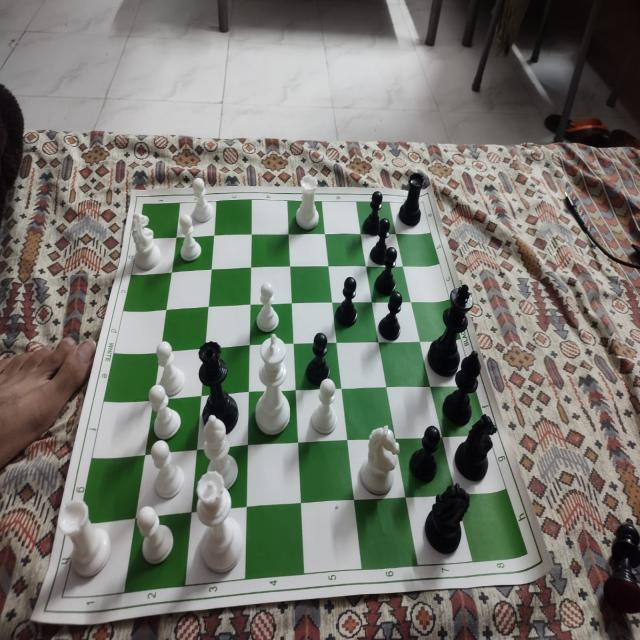board: (34, 181, 552, 619)
square: (62, 518, 136, 597), (125, 513, 192, 593), (456, 489, 528, 562), (185, 507, 247, 586), (406, 495, 473, 565), (78, 455, 145, 524), (245, 503, 305, 579), (354, 498, 418, 569), (301, 500, 362, 574), (136, 450, 197, 517), (443, 435, 506, 495), (192, 445, 248, 512), (395, 437, 456, 498), (92, 400, 154, 459), (347, 439, 406, 499), (298, 440, 354, 503), (247, 443, 301, 507), (146, 396, 202, 455), (197, 391, 249, 450), (431, 386, 490, 437), (386, 387, 442, 439), (342, 387, 396, 440), (104, 352, 161, 401), (248, 390, 298, 445), (296, 389, 347, 442), (154, 348, 205, 400), (420, 340, 475, 386), (201, 345, 250, 396), (337, 342, 387, 389), (379, 342, 430, 388), (114, 310, 167, 354), (249, 343, 296, 392), (294, 343, 341, 390), (161, 307, 209, 352), (411, 300, 461, 342), (205, 305, 251, 349), (372, 302, 420, 343), (332, 302, 379, 343), (123, 272, 172, 311), (167, 269, 212, 310), (292, 303, 337, 344), (250, 304, 294, 345), (403, 264, 449, 303), (131, 237, 177, 275), (209, 268, 251, 307), (251, 266, 292, 305), (367, 267, 411, 303), (172, 236, 214, 273), (290, 266, 332, 303), (137, 203, 180, 239), (329, 266, 372, 302), (396, 233, 440, 267), (361, 234, 404, 267), (177, 201, 216, 237), (212, 235, 252, 270), (214, 200, 252, 235), (251, 234, 290, 268), (390, 202, 431, 234), (325, 234, 366, 266), (289, 234, 329, 266), (252, 200, 289, 234), (322, 202, 361, 234), (357, 202, 396, 234), (288, 201, 325, 234)
